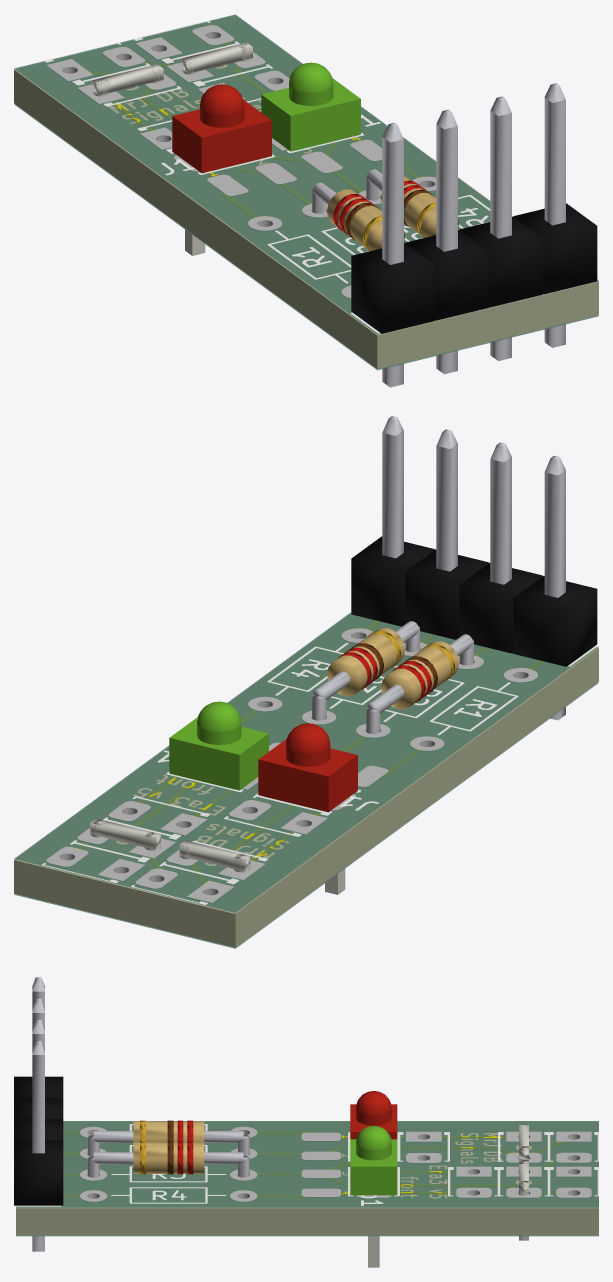
File: MrJ-DB-Era3-breadboard-bloc-off.glb
3 views of the same model, one above another, from view 1: azimuth 30°, elevation 25°; view 2: azimuth 150°, elevation 25°; view 3: azimuth 270°, elevation 25° (orthographic). The views are drawn at different scales.
Parts seen in each view (by area): view 1: =>[0:1:1:17], =>[0:1:1:3] (×4), =>[0:1:1:15], =>[0:1:1:13], =>[0:1:1:11], =>[0:1:1:5], =>[0:1:1:9] (×2), =>[0:1:1:14], =>[0:1:1:7] (×2), =>[0:1:1:12], =>[0:1:1:16]; view 2: =>[0:1:1:17], =>[0:1:1:15], =>[0:1:1:3] (×4), =>[0:1:1:13], =>[0:1:1:9] (×2), =>[0:1:1:11], =>[0:1:1:5], =>[0:1:1:14], =>[0:1:1:7] (×2), =>[0:1:1:12], =>[0:1:1:16]; view 3: =>[0:1:1:17], =>[0:1:1:15], =>[0:1:1:3] (×4), =>[0:1:1:13], =>[0:1:1:9] (×2), =>[0:1:1:5], =>[0:1:1:14], =>[0:1:1:11], =>[0:1:1:12], =>[0:1:1:16], =>[0:1:1:7].
Part boxes in pixels (x1,y1,x2,y2): =>[0:1:1:17]: [14, 16, 598, 369]; =>[0:1:1:3] (×4): [351, 83, 597, 387]; =>[0:1:1:15]: [14, 14, 598, 334]; =>[0:1:1:13]: [46, 25, 436, 298]; =>[0:1:1:11]: [172, 84, 271, 255]; =>[0:1:1:5]: [261, 62, 360, 151]; =>[0:1:1:9] (×2): [312, 169, 458, 250]; =>[0:1:1:14]: [44, 20, 490, 333]; =>[0:1:1:7] (×2): [92, 42, 252, 96]; =>[0:1:1:12]: [88, 43, 420, 218]; =>[0:1:1:16]: [14, 104, 598, 370]; =>[0:1:1:17]: [14, 614, 598, 947]; =>[0:1:1:15]: [14, 612, 598, 912]; =>[0:1:1:3] (×4): [351, 416, 597, 720]; =>[0:1:1:13]: [46, 628, 537, 903]; =>[0:1:1:9] (×2): [312, 621, 473, 733]; =>[0:1:1:11]: [258, 723, 357, 894]; =>[0:1:1:5]: [169, 701, 268, 790]; =>[0:1:1:14]: [41, 612, 597, 904]; =>[0:1:1:7] (×2): [90, 818, 250, 872]; =>[0:1:1:12]: [76, 621, 542, 884]; =>[0:1:1:16]: [14, 682, 598, 948]; =>[0:1:1:17]: [16, 1122, 598, 1235]; =>[0:1:1:15]: [16, 1121, 598, 1207]; =>[0:1:1:3] (×4): [14, 977, 63, 1251]; =>[0:1:1:13]: [80, 1127, 591, 1201]; =>[0:1:1:9] (×2): [87, 1120, 249, 1177]; =>[0:1:1:5]: [350, 1126, 397, 1267]; =>[0:1:1:14]: [16, 1124, 598, 1206]; =>[0:1:1:11]: [350, 1091, 397, 1139]; =>[0:1:1:12]: [64, 1132, 564, 1197]; =>[0:1:1:16]: [16, 1235, 598, 1236]; =>[0:1:1:7]: [519, 1160, 528, 1240].
Bounding box in the file's own units: 0.0104 × 0.0127 × 0.0297.
